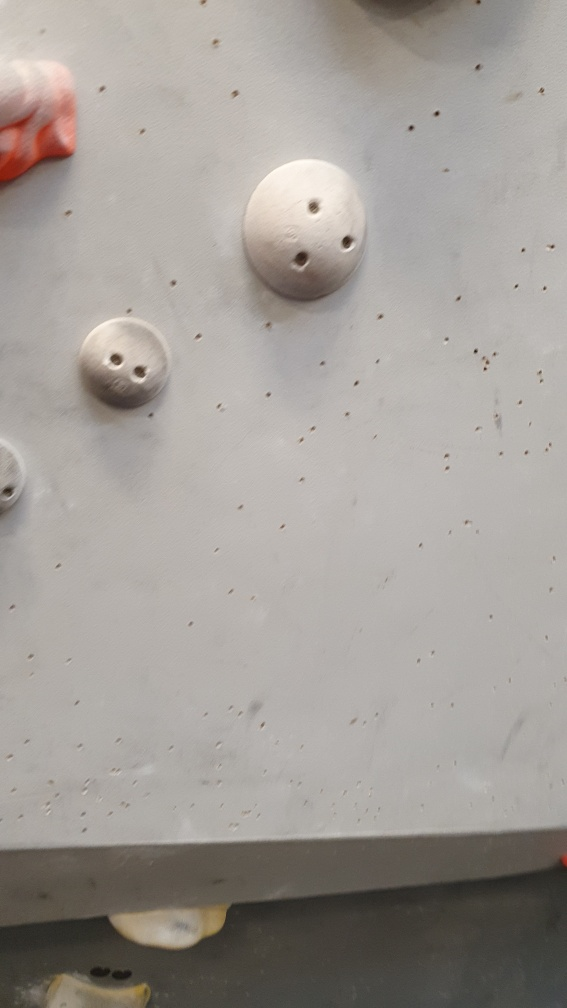Hand Start: (89, 961, 112, 988), (109, 964, 135, 987)
Jug: (1, 54, 83, 199)
Sloper: (243, 155, 371, 307), (78, 316, 172, 412), (1, 445, 31, 520)
